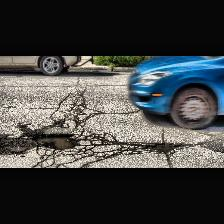pothole: (31, 130, 79, 150), (143, 142, 179, 154)
